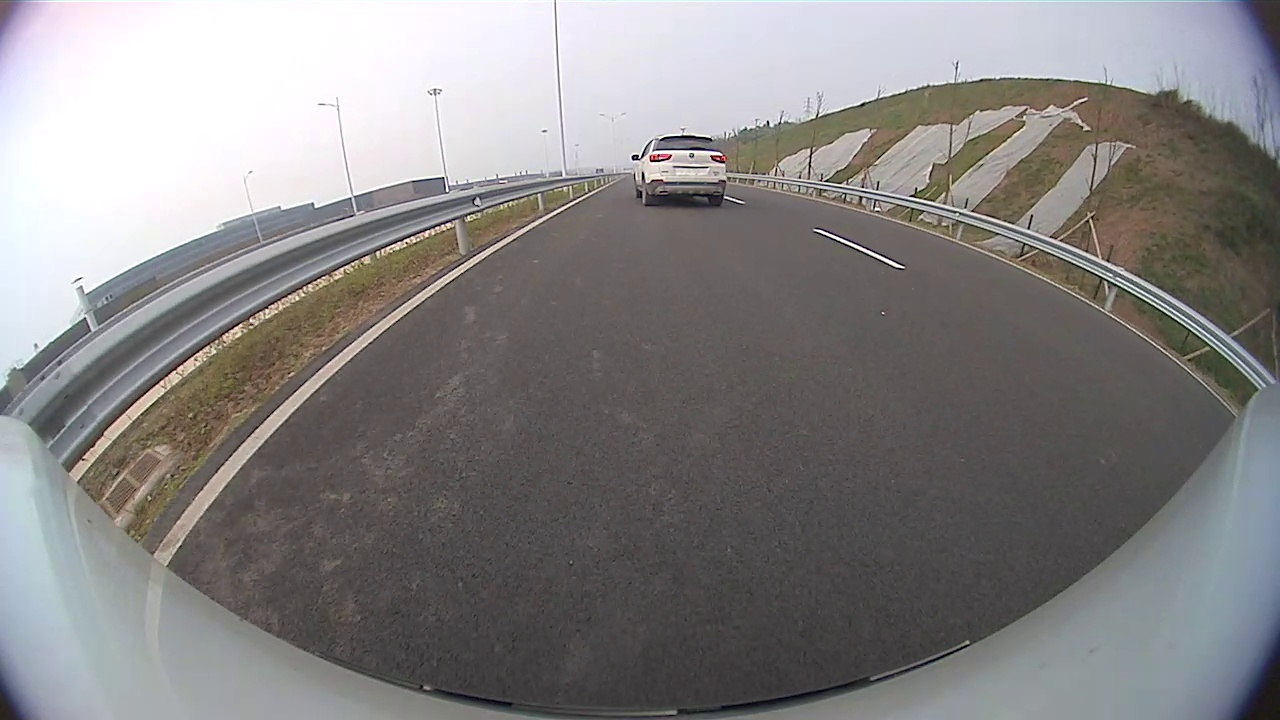car: (631, 133, 728, 208)
rear: (640, 174, 654, 207)
